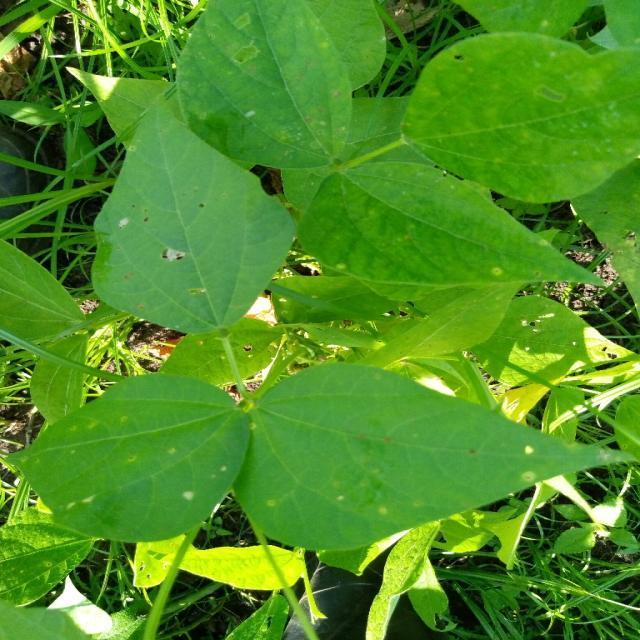hawar: (116, 208, 192, 274)
sehat: (436, 90, 571, 162), (275, 388, 361, 492), (95, 416, 229, 482), (254, 44, 362, 107), (334, 189, 435, 255)
